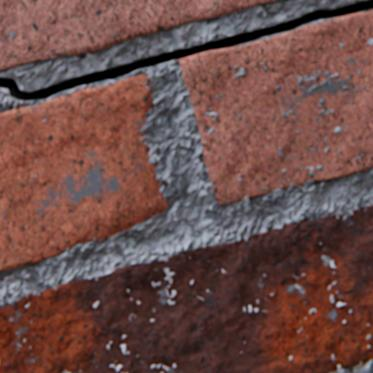brick: (0, 204, 372, 372), (179, 9, 372, 204), (0, 74, 169, 269), (0, 0, 278, 71)
crack: (0, 0, 372, 100)
